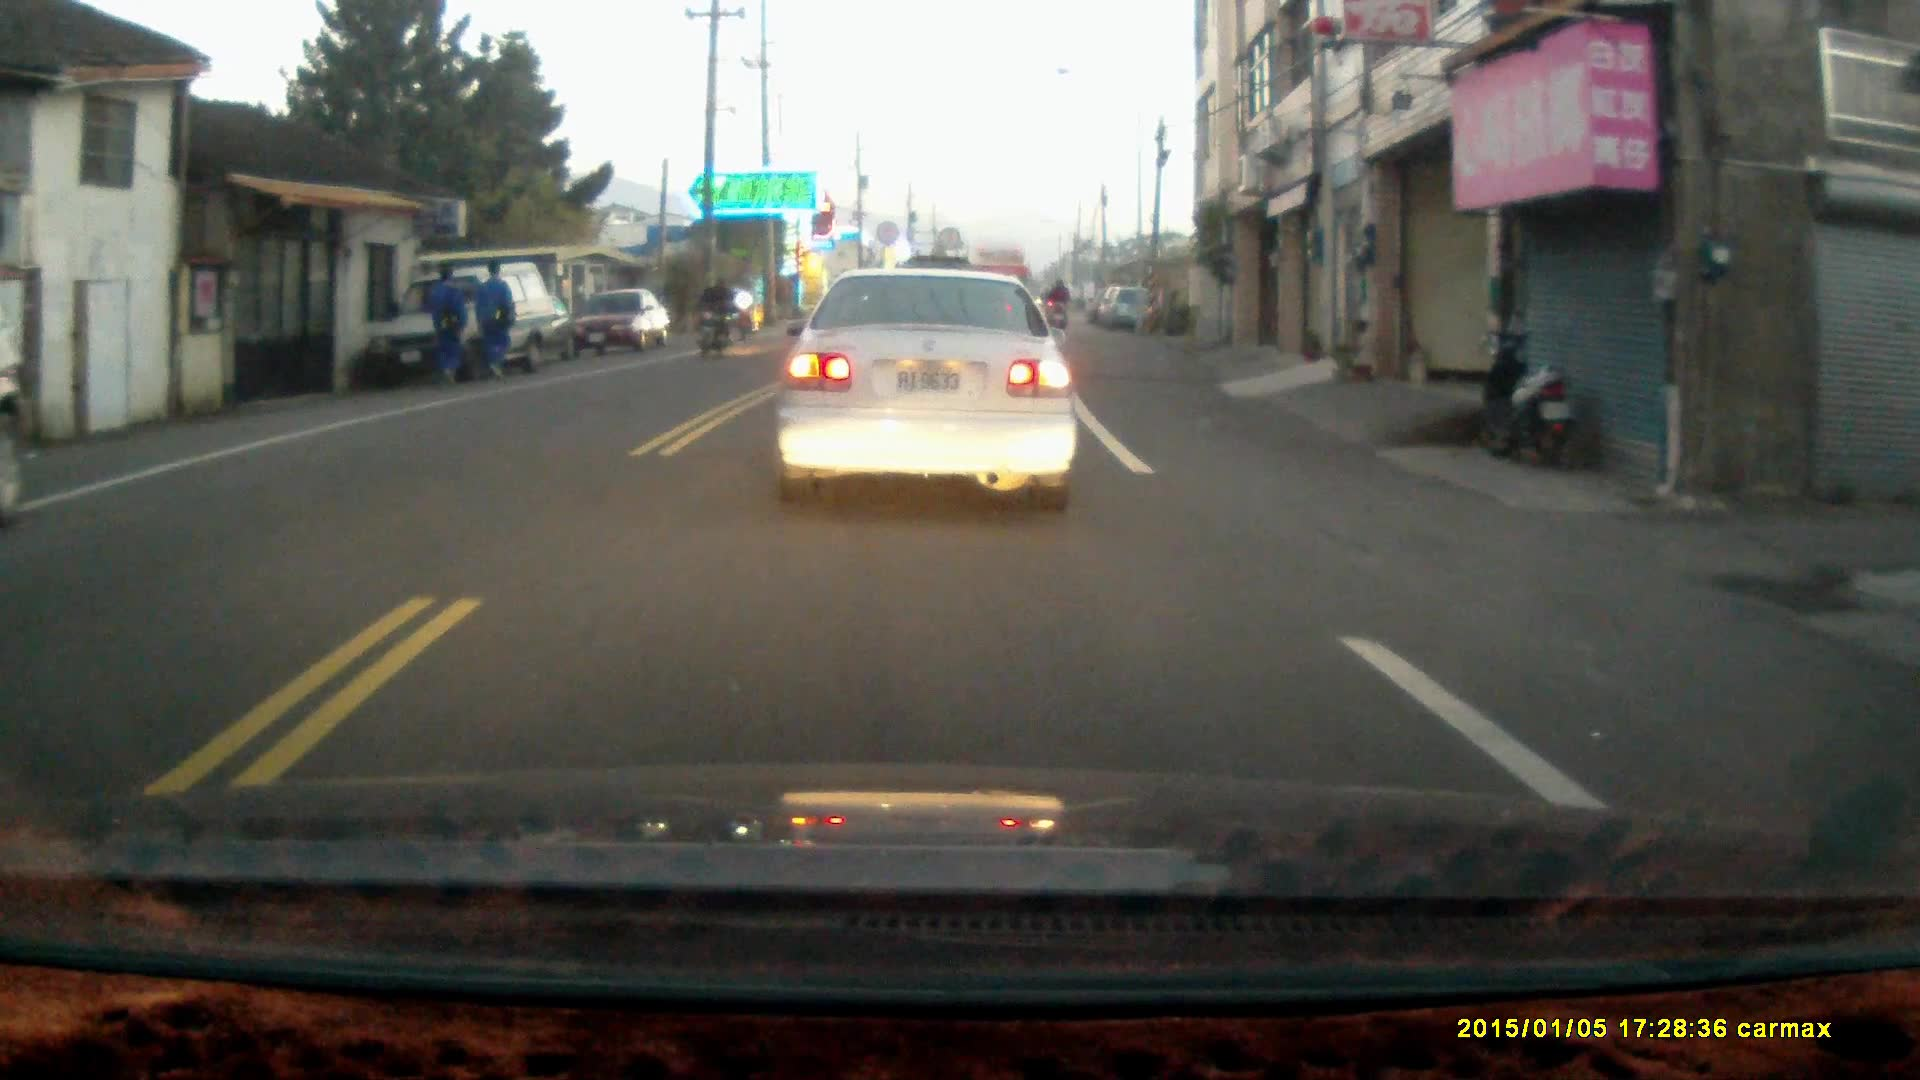pedestrian: (424, 259, 469, 390), (472, 256, 516, 387)
rider: (692, 277, 736, 360), (730, 279, 757, 342)
vehicle: (772, 268, 1080, 515), (378, 268, 571, 392), (563, 290, 672, 358)
